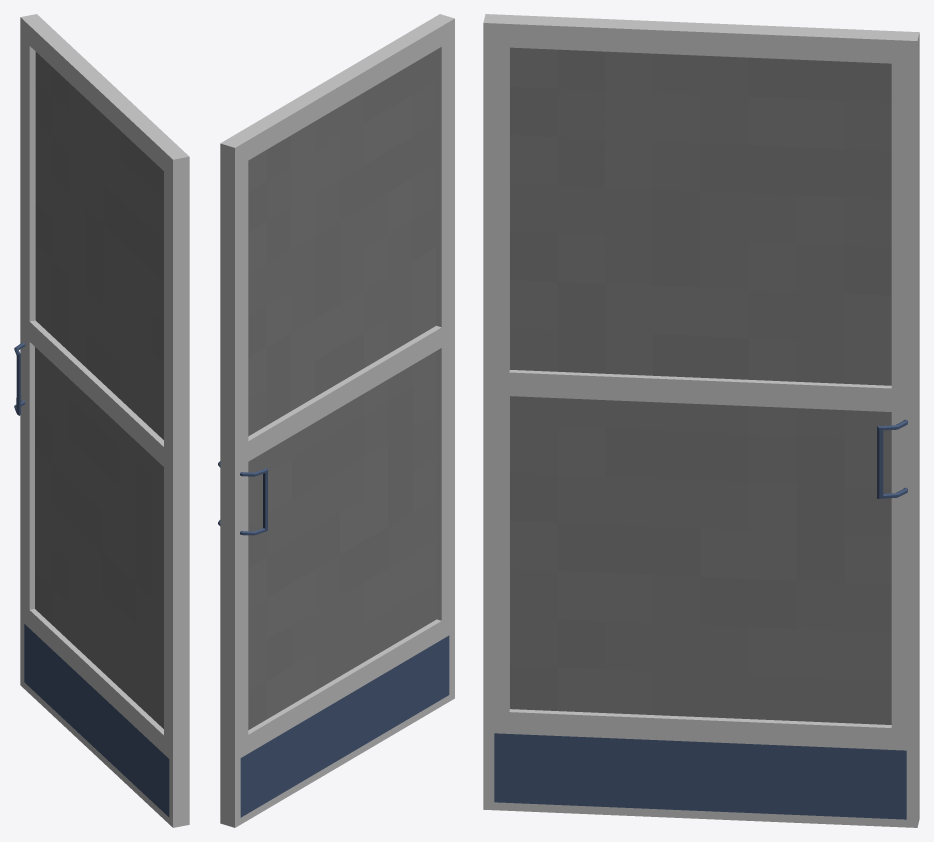
Rendered from SW_corridor__R_lobby_R_Aula_Ovi_2_Ikkunaa_008.FBX.
3 views of the same model, side by side, from view 1: azimuth 30°, elevation 25°; view 2: azimuth 150°, elevation 25°; view 3: azimuth 270°, elevation 25° (orthographic). The views are drawn at different scales.
Parts seen in each view (by area): view 1: SW_corridor__R_lobby_R_Aula_Ovi_2_Ikkunaa_008; view 2: SW_corridor__R_lobby_R_Aula_Ovi_2_Ikkunaa_008; view 3: SW_corridor__R_lobby_R_Aula_Ovi_2_Ikkunaa_008.
Part boxes in pixels (x1,y1,x2,y2): SW_corridor__R_lobby_R_Aula_Ovi_2_Ikkunaa_008: (14,14,189,827); SW_corridor__R_lobby_R_Aula_Ovi_2_Ikkunaa_008: (218,14,454,827); SW_corridor__R_lobby_R_Aula_Ovi_2_Ikkunaa_008: (483,14,919,827).
Size of the model in its own units: 19.02 by 102 by 204.
